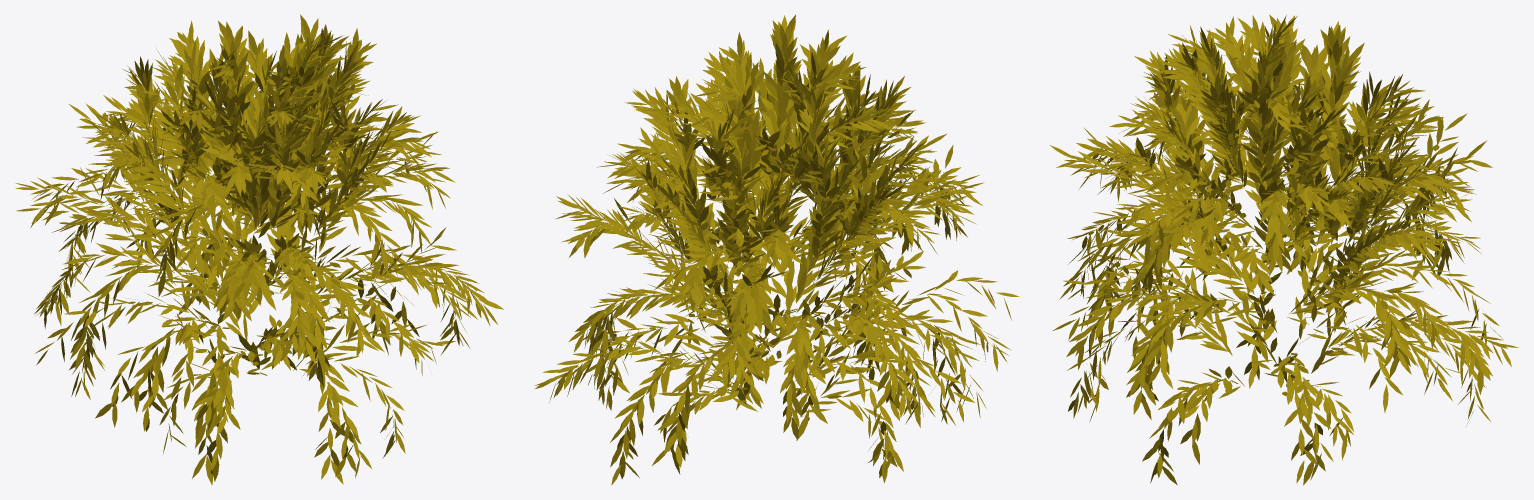
File: fallLeaves.fbx
3 renders of one model, left to right at view 1: azimuth 30°, elevation 25°; view 2: azimuth 150°, elevation 25°; view 3: azimuth 270°, elevation 25°, orthographic.
Visible parts, largest first — view 1: fall; view 2: fall; view 3: fall.
Boxes of the visible parts, x1,y1,x2,y2 form: fall: (15, 14, 503, 485); fall: (534, 14, 1019, 485); fall: (1050, 14, 1518, 485).
Size of the model in its own units: 578 by 604 by 605.
